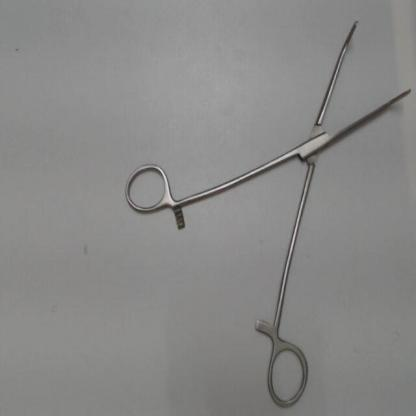Lahey Forceps: (118, 12, 414, 413)
